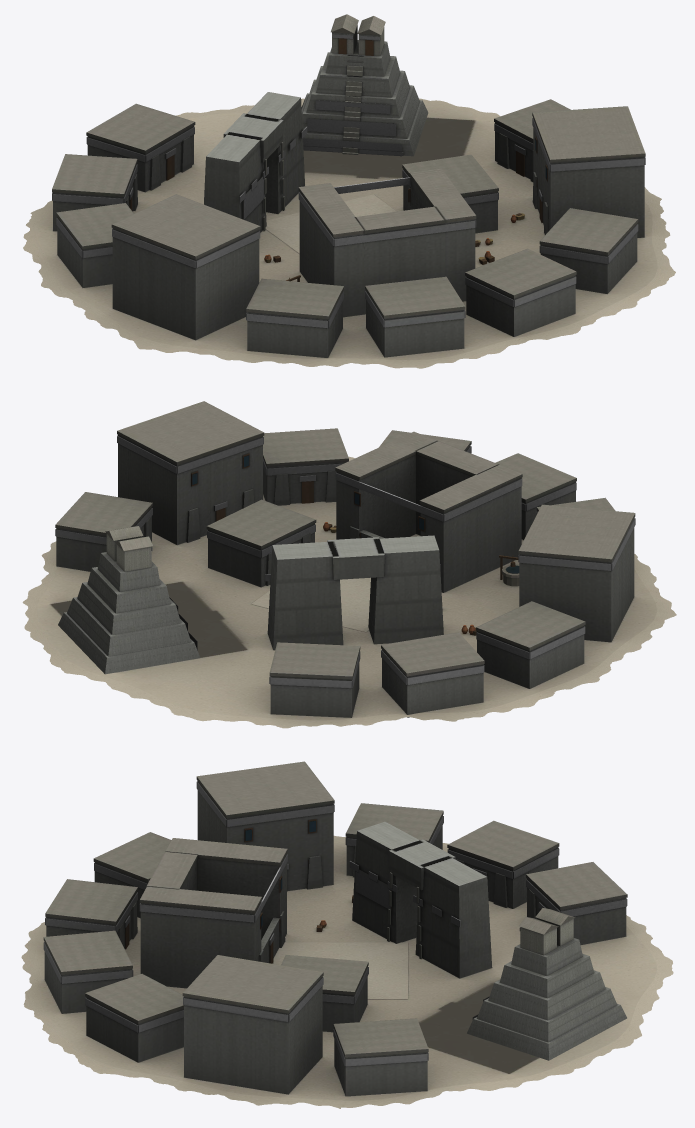
File: kingdoms-town-medium-b-americas.glb
3 renders of one model, top to bottom at view 1: azimuth 30°, elevation 25°; view 2: azimuth 150°, elevation 25°; view 3: azimuth 270°, elevation 25°, orthographic.
Visible parts, largest first — view 1: LOD0; view 2: LOD0; view 3: LOD0.
Part boxes in pixels (x1,y1,x2,y2): LOD0: (23,14,675,368); LOD0: (22,401,676,728); LOD0: (21,761,673,1108).
Size of what is drawn, in the model's own units: 5.93 by 1.11 by 5.95.
Materials: 3 (3 with a texture image).
